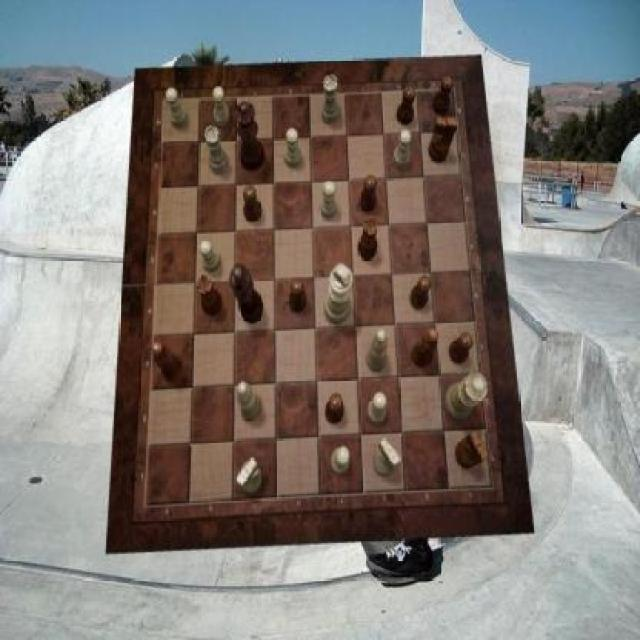bishop: (151, 343, 183, 383), (410, 328, 438, 368)
black-bishop: (230, 264, 264, 324)
black-king: (428, 117, 457, 163), (456, 431, 488, 469)
black-knight: (432, 77, 453, 117), (449, 332, 474, 365), (397, 86, 416, 125), (411, 275, 432, 310), (243, 186, 262, 222), (359, 175, 376, 213), (289, 278, 307, 312), (326, 394, 344, 424)
black-pawn: (233, 101, 264, 172)
black-queen: (197, 275, 221, 317), (358, 217, 378, 261)
black-rook: (237, 383, 261, 423), (368, 329, 388, 372)
white-bishop: (326, 263, 354, 325)
white-king: (372, 438, 400, 477), (237, 457, 261, 495)
white-knight: (165, 88, 188, 129), (198, 238, 221, 272), (284, 128, 302, 168), (214, 86, 231, 128), (368, 392, 388, 425), (320, 182, 337, 220), (394, 131, 411, 169), (331, 446, 350, 474)
white-pawn: (444, 372, 488, 420)
white-queen: (204, 126, 228, 176), (322, 74, 339, 124)
